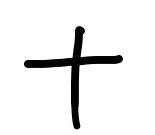plus: (25, 26, 123, 130)
